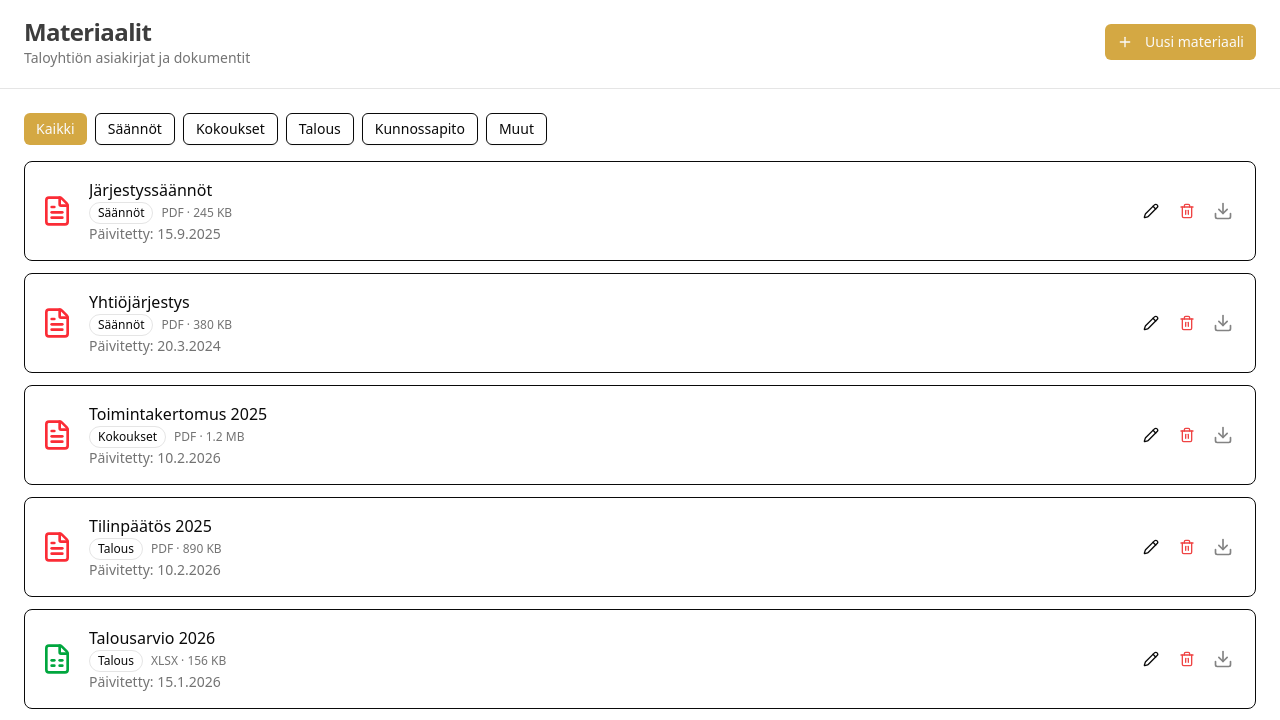
MaterialsPage › opens create dialog when create button clicked
Click the button "Uusi materiaali" at (1180, 42), box [1105,24,1256,60]
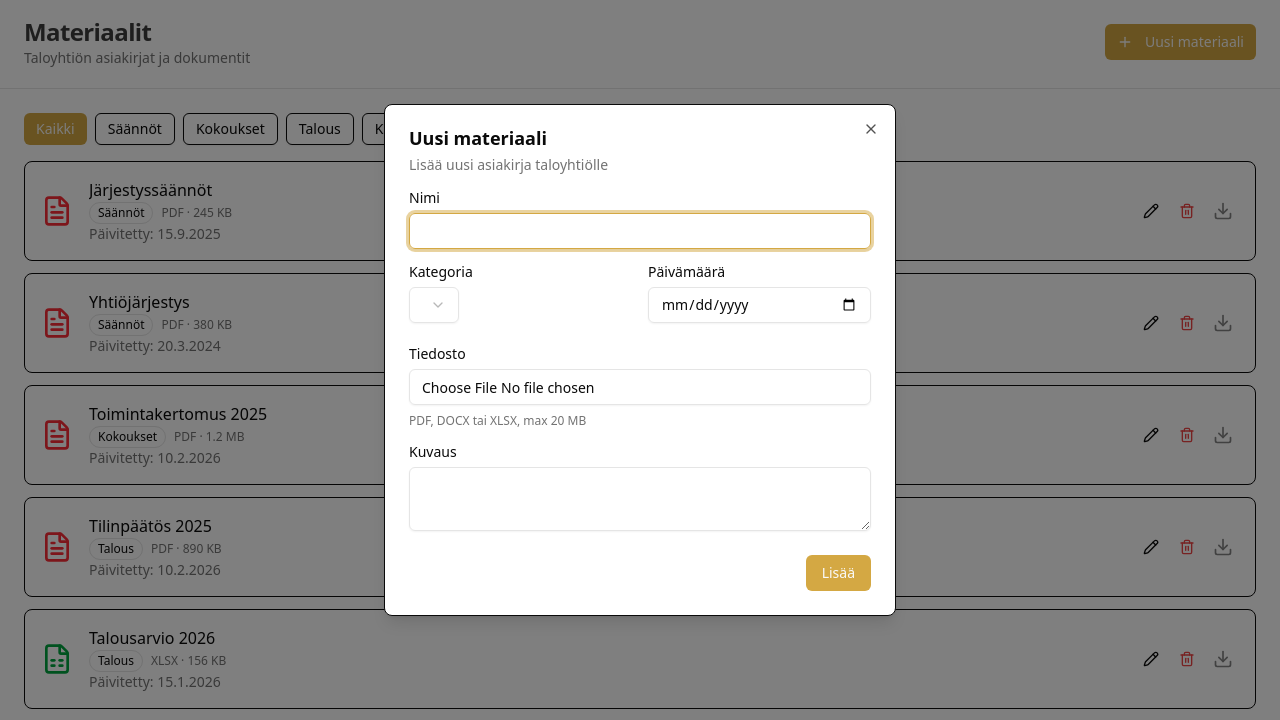
Result: the text "Lisää uusi asiakirja taloyhtiölle" is shown at [409,155,608,174]
